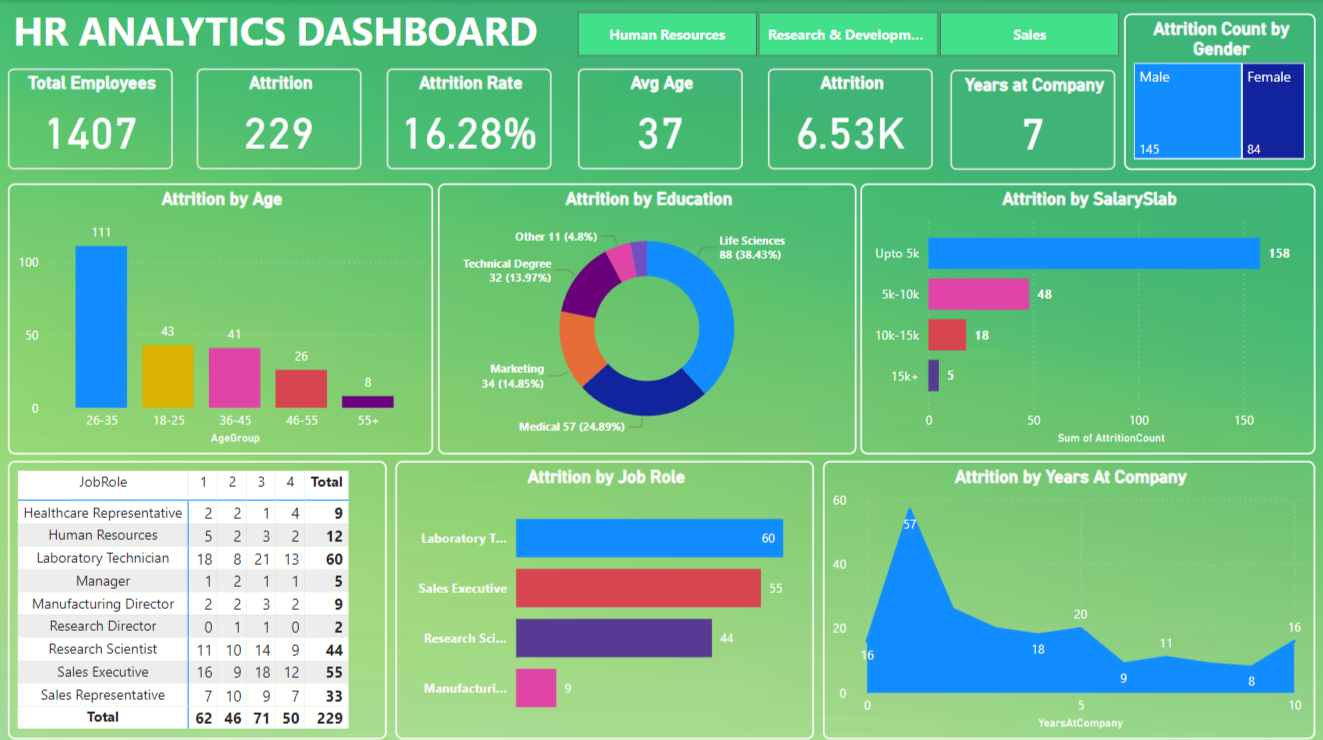

The page's visual inventory and layout, read from the dashboard file:
{"tool":"powerbi","page":{"name":"Page 1","canvas":[1280,720],"ordinal":0},"visuals":[{"type":"textbox","box":[9.6,0,524.2,65.9],"z":0},{"type":"card","title":"Total Employees","fields":{"Values":["CountNonNull(HR_Analytics.EmpID)"]},"box":[9.7,66.4,159.3,97.7],"z":1000},{"type":"card","title":"Attrition","fields":{"Values":["CountNonNull(HR_Analytics.AttritionCount)"]},"box":[192.1,65.9,159.2,97.4],"z":2000},{"type":"card","title":"Attrition Rate","fields":{"Values":["HR_Analytics.AttritionRate"]},"box":[374.6,65.9,159.2,97.4],"z":3000},{"type":"card","title":"Avg Age","fields":{"Values":["Avg(HR_Analytics.Age)"]},"box":[559.9,65.9,159.2,97.4],"z":4000},{"type":"card","title":"Attrition","fields":{"Values":["Avg(HR_Analytics.MonthlyIncome)"]},"box":[743.7,65.9,159.2,97.4],"z":5000},{"type":"card","title":"Years at Company","fields":{"Values":["Avg(HR_Analytics.YearsAtCompany)"]},"box":[919.3,67.6,159.3,96.5],"z":6000},{"type":"slicer","fields":{"Values":["HR_Analytics.Department"]},"box":[533.2,4.8,573.1,56.7],"z":7000},{"type":"columnChart","title":"Attrition by Age","fields":{"Category":["HR_Analytics.AgeGroup"],"Y":["Sum(HR_Analytics.AttritionCount)"]},"box":[9.7,177.3,410.2,261.8],"z":8000},{"type":"donutChart","title":"Attrition by Education","fields":{"Category":["HR_Analytics.EducationField"],"Y":["Sum(HR_Analytics.AttritionCount)"]},"box":[424.7,177.3,404.2,261.8],"z":9000},{"type":"barChart","title":"Attrition by SalarySlab","fields":{"Category":["HR_Analytics.SalarySlab"],"Y":["Sum(HR_Analytics.AttritionCount)"]},"box":[832.4,177.3,439.1,261.8],"z":10000},{"type":"areaChart","title":"Attrition by Years At Company","fields":{"Category":["HR_Analytics.YearsAtCompany"],"Y":["Sum(HR_Analytics.AttritionCount)"]},"box":[796.3,445.2,475.3,269],"z":11000},{"type":"barChart","title":"Attrition by Job Role","fields":{"Category":["HR_Analytics.JobRole"],"Y":["Sum(HR_Analytics.AttritionCount)"]},"box":[383.6,445.2,404.2,269],"z":12000},{"type":"pivotTable","fields":{"Rows":["HR_Analytics.JobRole"],"Columns":["HR_Analytics.JobSatisfaction"],"Values":["Sum(HR_Analytics.AttritionCount)"]},"box":[9.7,445.2,365.6,269],"z":13000},{"type":"treemap","title":"Attrition Count by Gender","fields":{"Group":["HR_Analytics.Gender"],"Values":["Sum(HR_Analytics.AttritionCount)"]},"box":[1087,13.3,184.6,150.8],"z":15000}]}

Visuals, with their boxes in screenshot pixels (x1, y1, x2, y2), scaled from the page's 1280x720 canvas onto the 1323x740 screenshot:
textbox: (10, 0, 552, 68)
"Total Employees" card: (10, 68, 175, 169)
"Attrition" card: (199, 68, 363, 168)
"Attrition Rate" card: (387, 68, 552, 168)
"Avg Age" card: (579, 68, 743, 168)
"Attrition" card: (769, 68, 933, 168)
"Years at Company" card: (950, 69, 1115, 169)
slicer - HR_Analytics.Department: (551, 5, 1143, 63)
"Attrition by Age" columnChart: (10, 182, 434, 451)
"Attrition by Education" donutChart: (439, 182, 857, 451)
"Attrition by SalarySlab" barChart: (860, 182, 1314, 451)
"Attrition by Years At Company" areaChart: (823, 458, 1314, 734)
"Attrition by Job Role" barChart: (396, 458, 814, 734)
pivotTable - HR_Analytics.JobRole x HR_Analytics.JobSatisfaction: (10, 458, 388, 734)
"Attrition Count by Gender" treemap: (1124, 14, 1314, 169)
